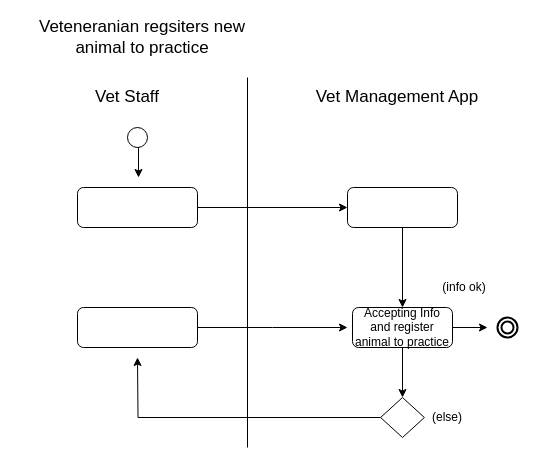
Image size: 535x466. Some labels were removed from this diagram. Here are the shapes that lost their labels. From the top down, the centre of each, then its label:
the point at 137,207: Begins registration process
the point at 137,327: refil info
